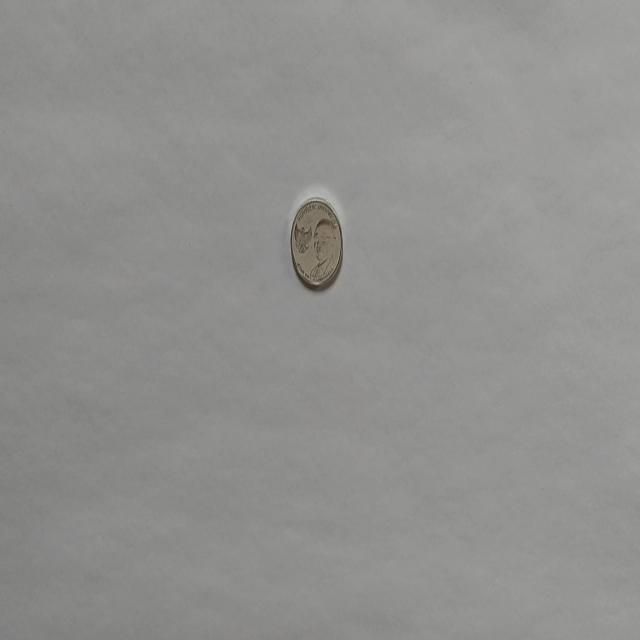lima ratus rupiah: (289, 196, 343, 290)
